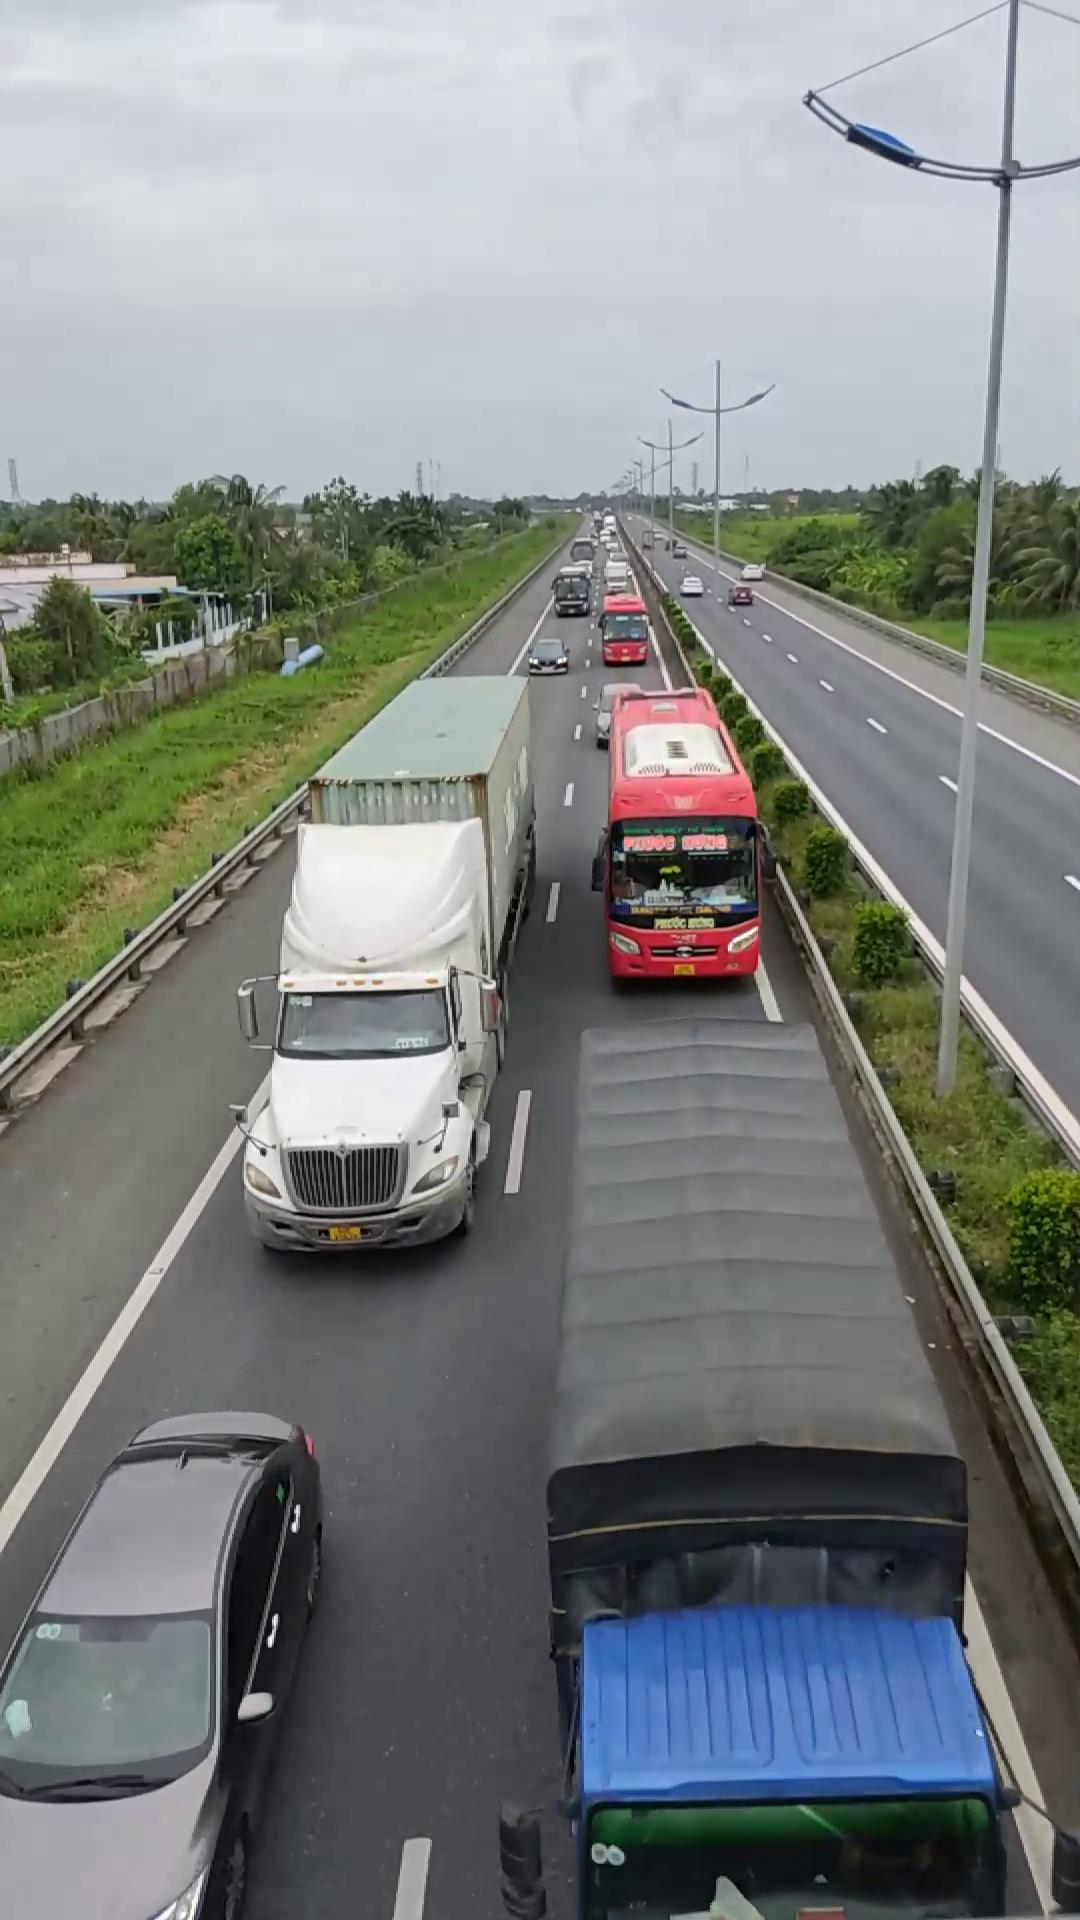bus: (593, 678, 769, 983)
car: (0, 1410, 330, 1916)
container: (235, 664, 535, 1256)
truck: (550, 996, 1035, 1914)
